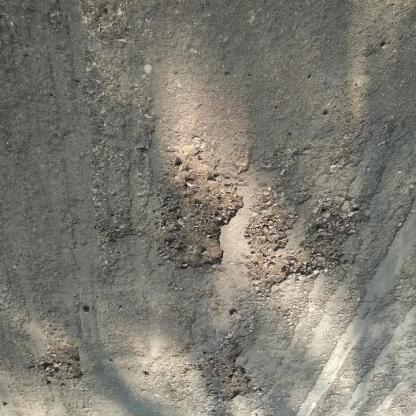pothole: (154, 147, 247, 274), (294, 201, 364, 279), (244, 196, 299, 290), (198, 337, 260, 402), (29, 345, 87, 383)
